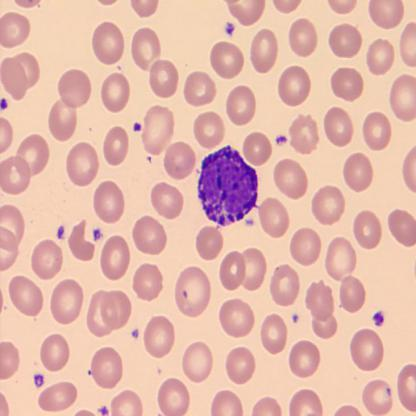Basophil: (195, 145, 259, 228)
